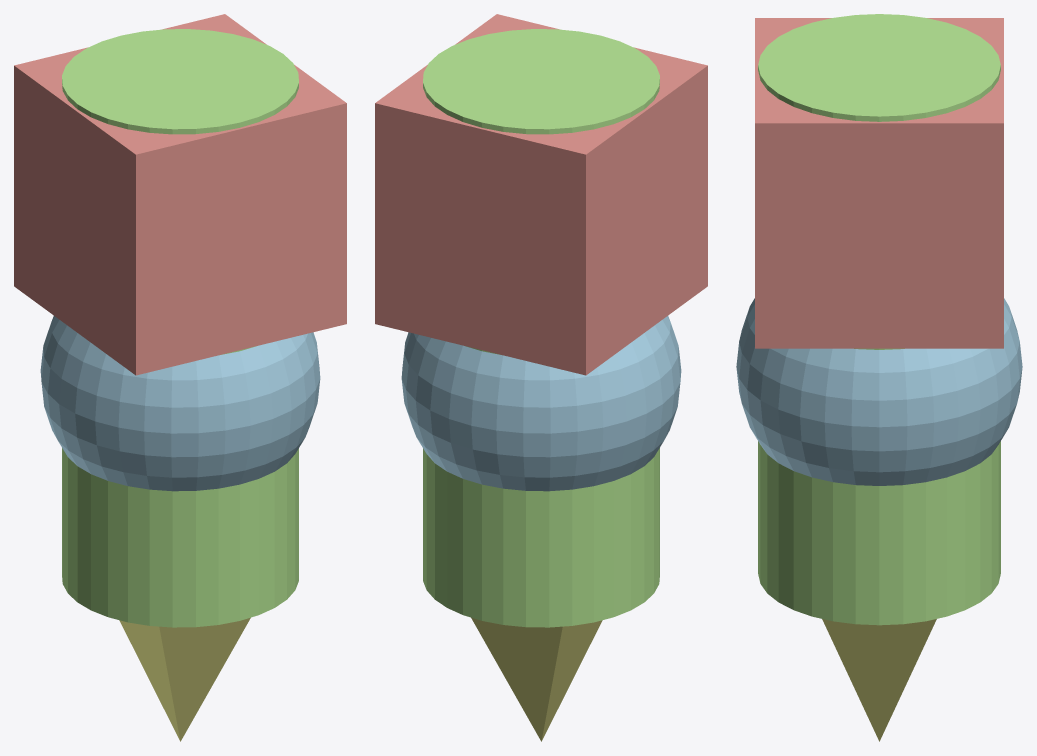
The model's file is piernas-amebaPlayer.glb.
3 renders of one model, left to right at view 1: azimuth 30°, elevation 25°; view 2: azimuth 150°, elevation 25°; view 3: azimuth 270°, elevation 25°, orthographic. The views are drawn at different scales.
Visible parts, largest first — view 1: Cube, Cylinder, Sphere, Cone; view 2: Cube, Cylinder, Sphere, Cone; view 3: Cube, Cylinder, Sphere, Cone.
Boxes of the visible parts, box(x1,y1,x2,y2) form: Cube: box(14, 14, 346, 375); Cylinder: box(62, 29, 298, 627); Sphere: box(40, 316, 320, 491); Cone: box(119, 617, 250, 741); Cube: box(375, 14, 707, 375); Cylinder: box(423, 29, 659, 627); Sphere: box(401, 316, 681, 491); Cone: box(471, 617, 602, 741); Cube: box(755, 18, 1003, 348); Cylinder: box(758, 14, 1000, 625); Sphere: box(736, 298, 1022, 485); Cone: box(822, 619, 936, 741).
Bounding box in the file's own units: 1.34 × 3.51 × 1.34.
